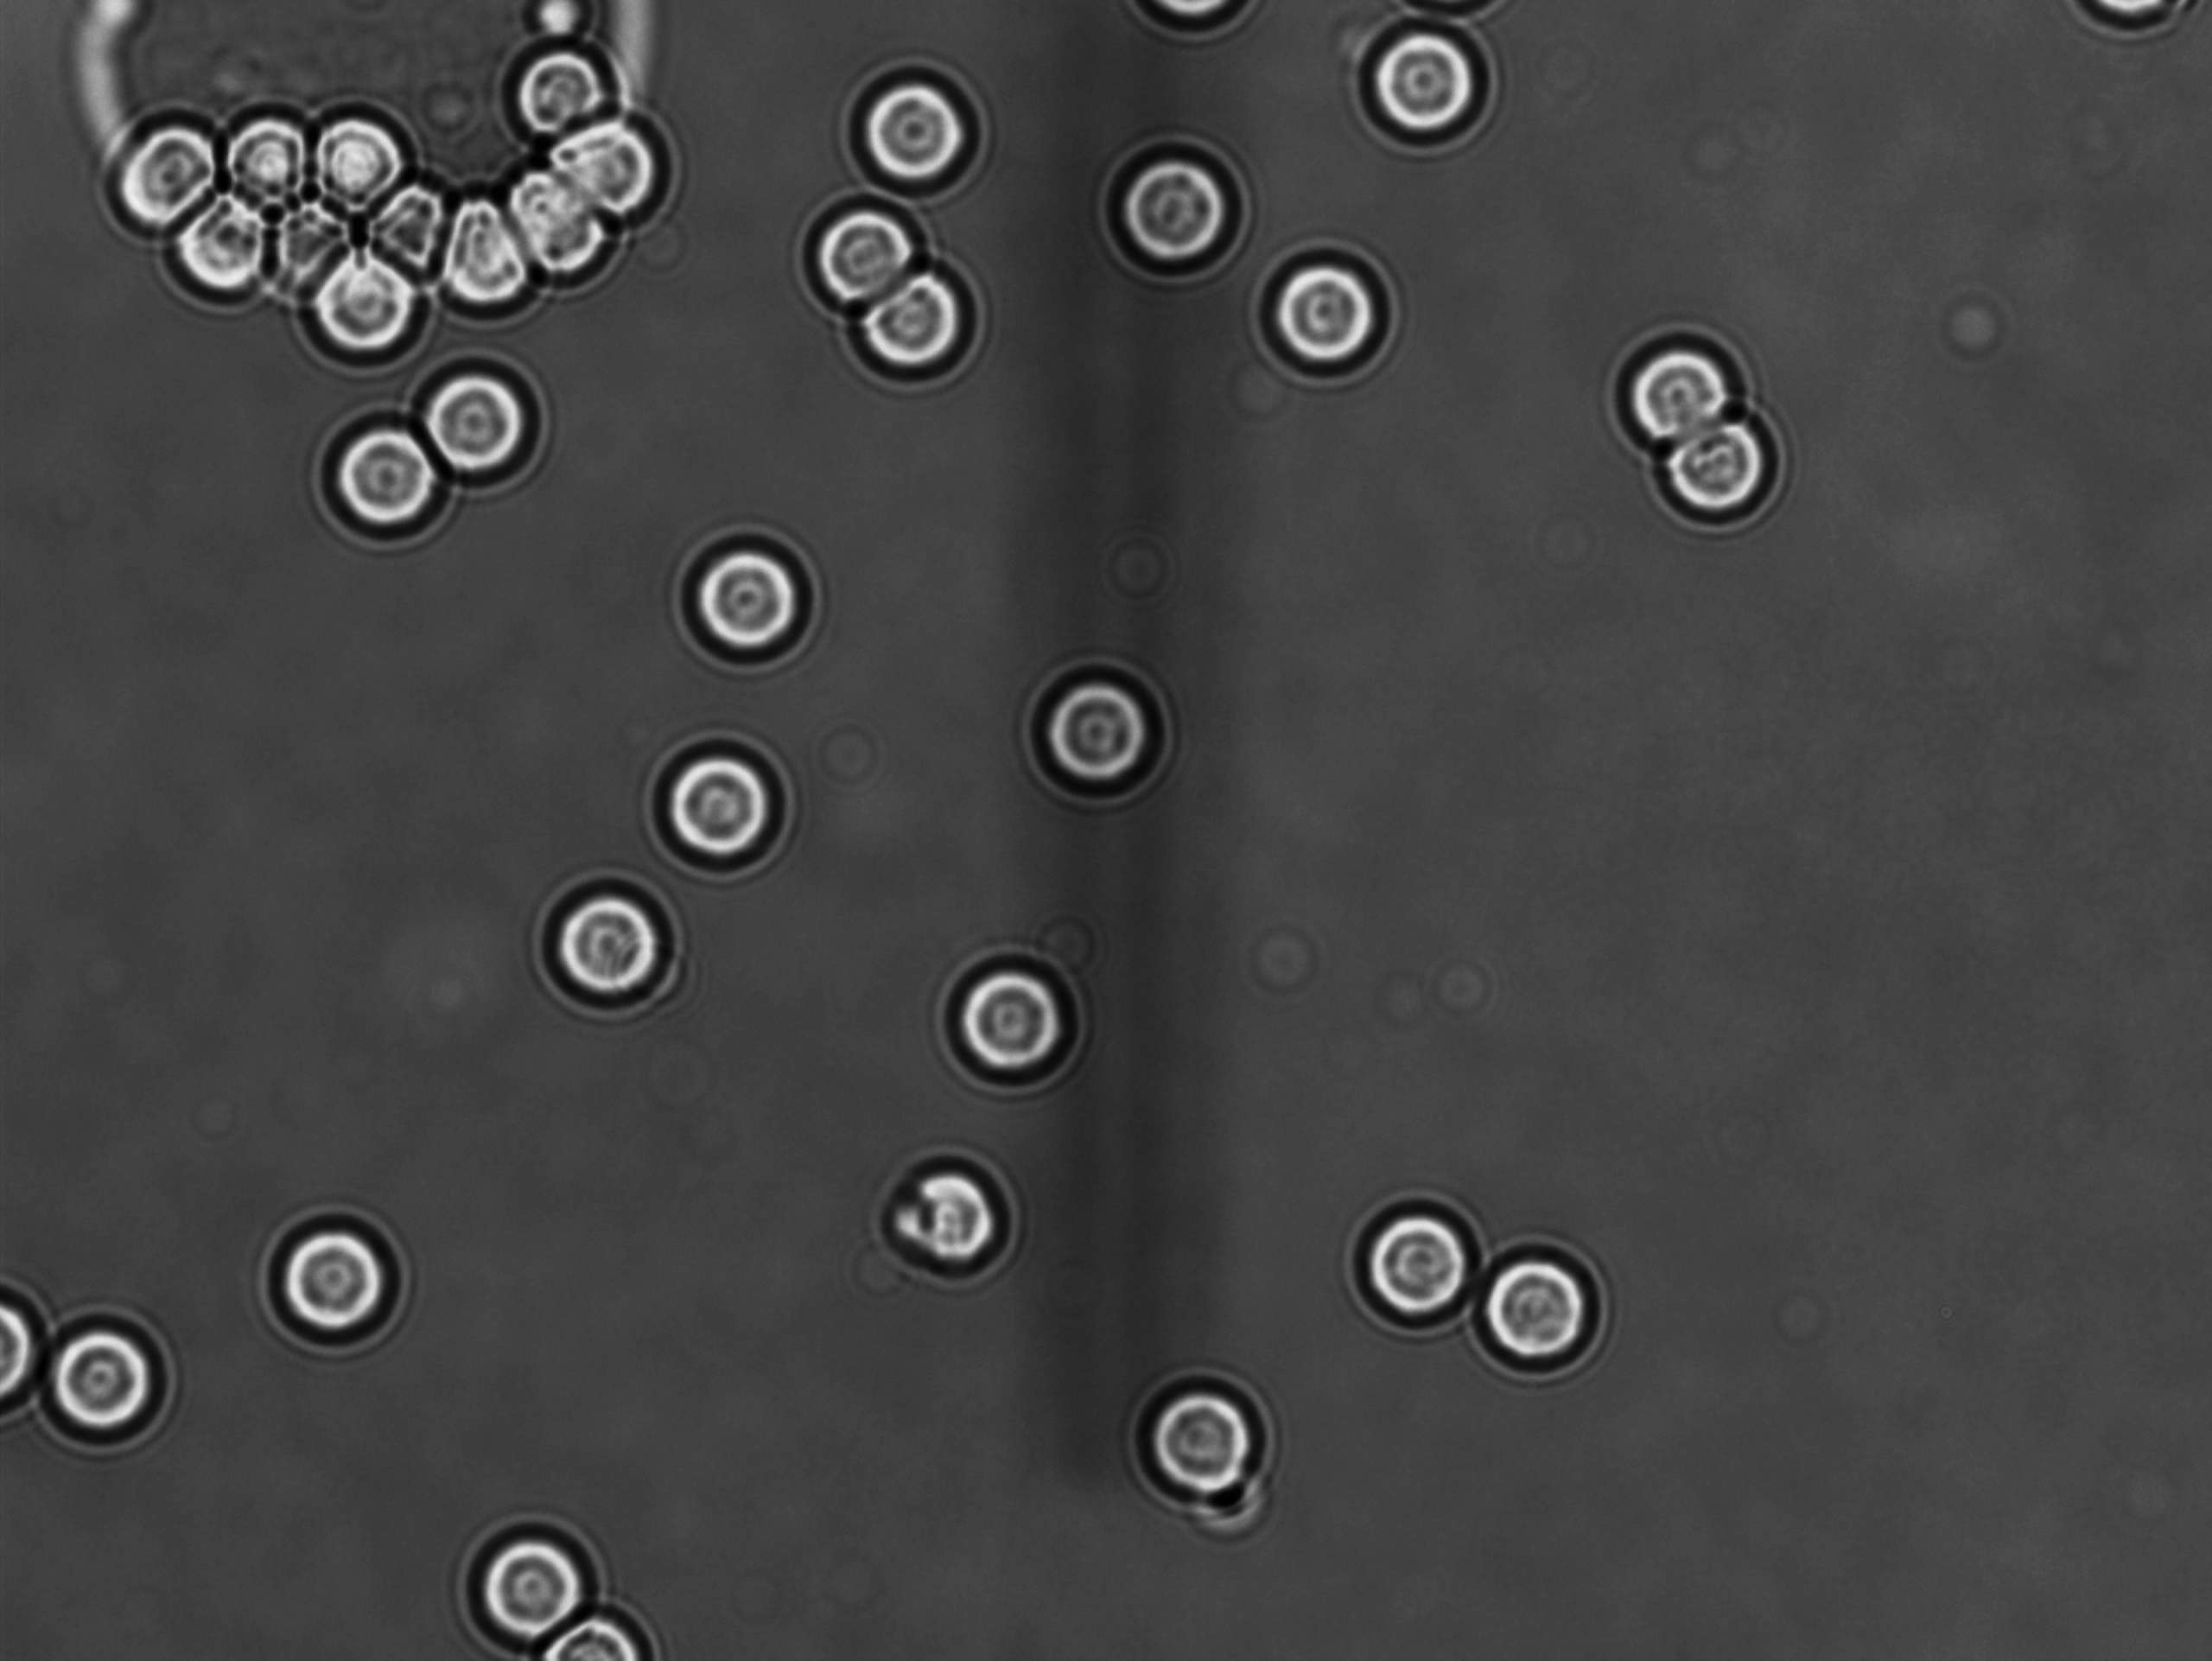depth:20: (663, 509, 846, 679), (1010, 646, 1181, 817), (529, 850, 689, 1026), (932, 937, 1103, 1101), (242, 1186, 413, 1350), (1237, 229, 1410, 391), (635, 721, 801, 886), (829, 47, 994, 208), (1096, 120, 1256, 281), (33, 1295, 188, 1460), (1457, 1228, 1615, 1389), (1343, 12, 1502, 169), (1601, 312, 1757, 473), (1123, 1359, 1291, 1506), (1642, 389, 1802, 541), (1340, 1186, 1490, 1345), (785, 173, 952, 312), (307, 398, 461, 550), (830, 256, 987, 400), (405, 345, 553, 494)
